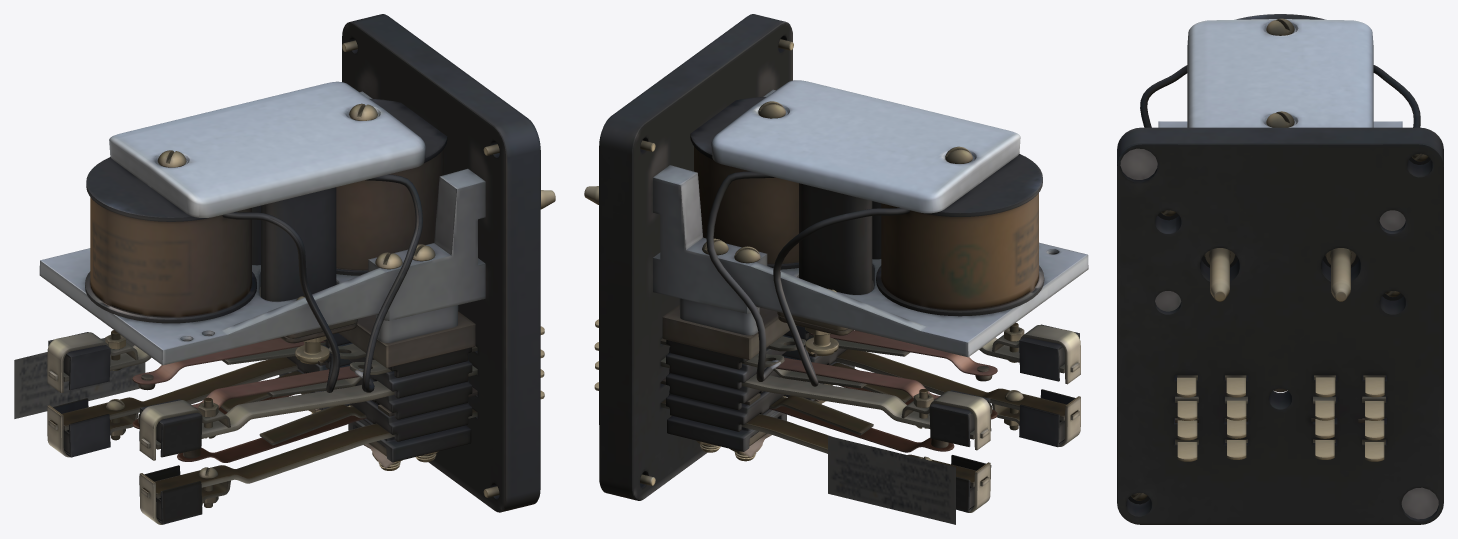
File: pumpsh_A.fbx
3 views of the same model, side by side, from view 1: azimuth 30°, elevation 25°; view 2: azimuth 150°, elevation 25°; view 3: azimuth 270°, elevation 25° (orthographic). The views are drawn at different scales.
Parts seen in each view (by area): view 1: pumpsh; view 2: pumpsh; view 3: pumpsh.
Part boxes in pixels (x1,y1,x2,y2): pumpsh: (14, 14, 555, 524); pumpsh: (584, 14, 1088, 524); pumpsh: (1117, 14, 1443, 524).
Bounding box in the file's own units: 0.1008 × 0.0866 × 0.0673.
